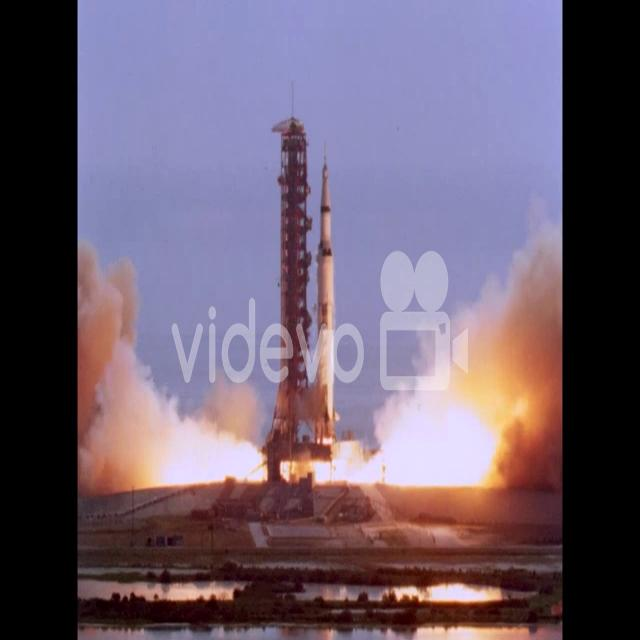rocket: (316, 157, 341, 456)
